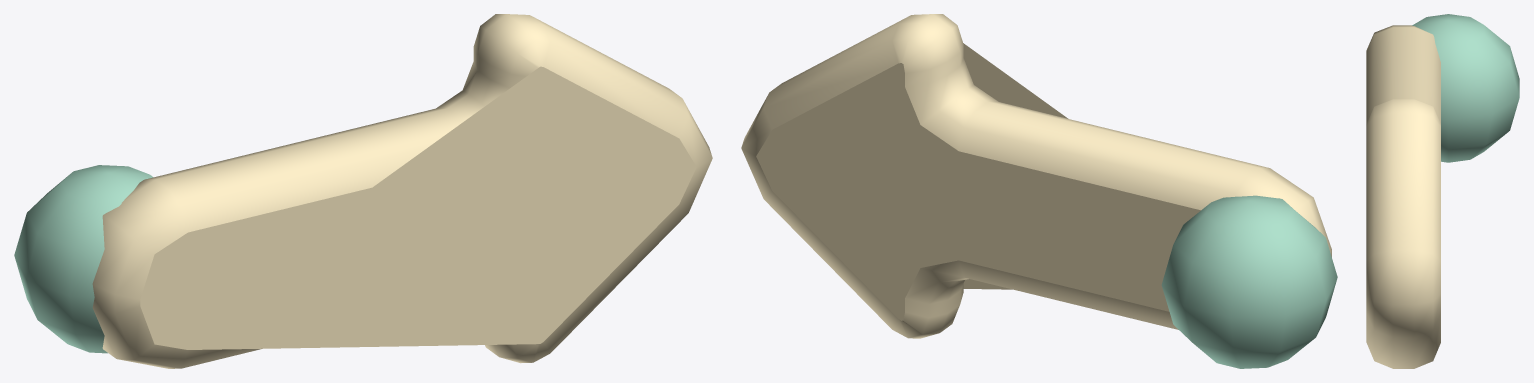
Rendered from sign_arrow.fbx.
3 views of the same model, side by side, from view 1: azimuth 30°, elevation 25°; view 2: azimuth 150°, elevation 25°; view 3: azimuth 270°, elevation 25° (orthographic). The views are drawn at different scales.
Visible parts, largest first — view 1: Sign_Arrow; view 2: Sign_Arrow; view 3: Sign_Arrow.
Part boxes in pixels (<box>): Sign_Arrow: <box>14,14,712,368</box>; Sign_Arrow: <box>741,14,1337,368</box>; Sign_Arrow: <box>1366,14,1519,368</box>.
Bounding box in the file's own units: 0.3926 × 0.1966 × 0.1026.
